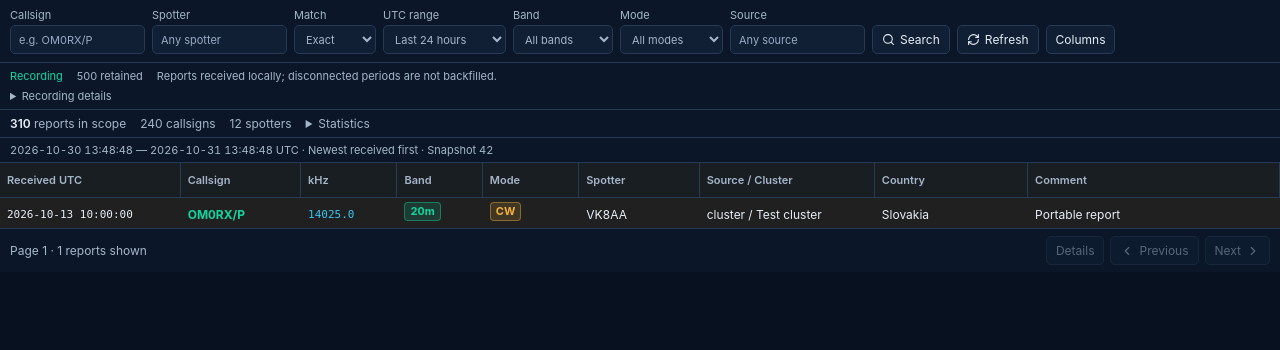
Spot History scope and paging › rejects invalid or reversed UTC ranges without making a new query
Expected: the text "310" is shown, x1=10 y1=116 x2=31 y2=131
Select "Custom UTC" in the dropdown labelled "UTC range" at (444, 40), box x1=383 y1=25 x2=506 y2=54
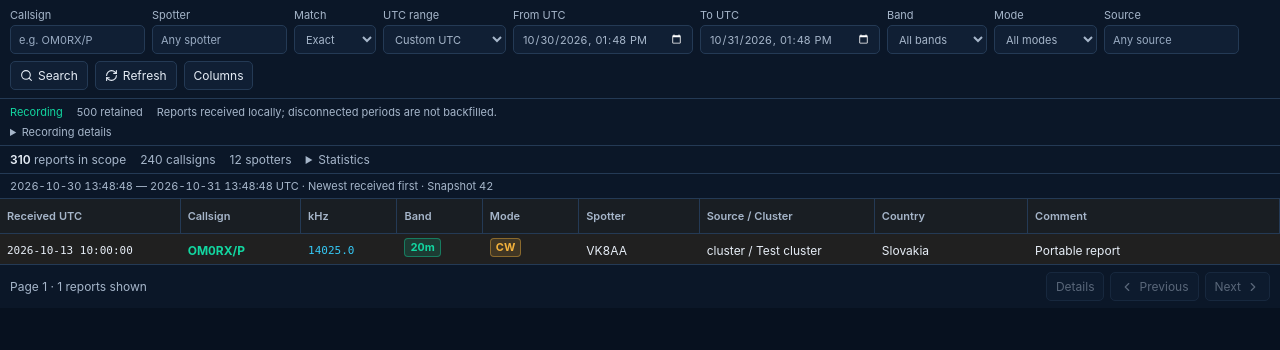
Replace the text in the field labelled "From UTC" with "2026-10-14T01:00" at (603, 40), box x1=513 y1=25 x2=693 y2=54
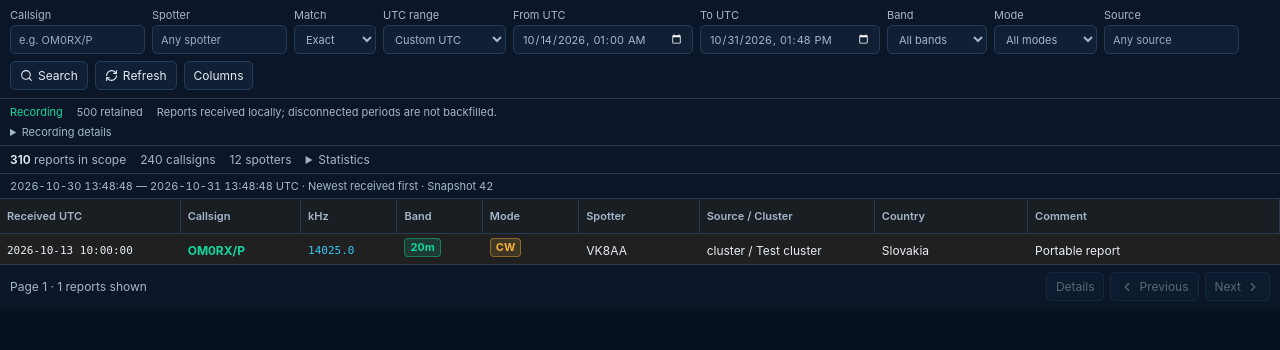
Replace the text in the field labelled "To UTC" with "2026-10-13T01:00" at (790, 40), box x1=700 y1=25 x2=880 y2=54
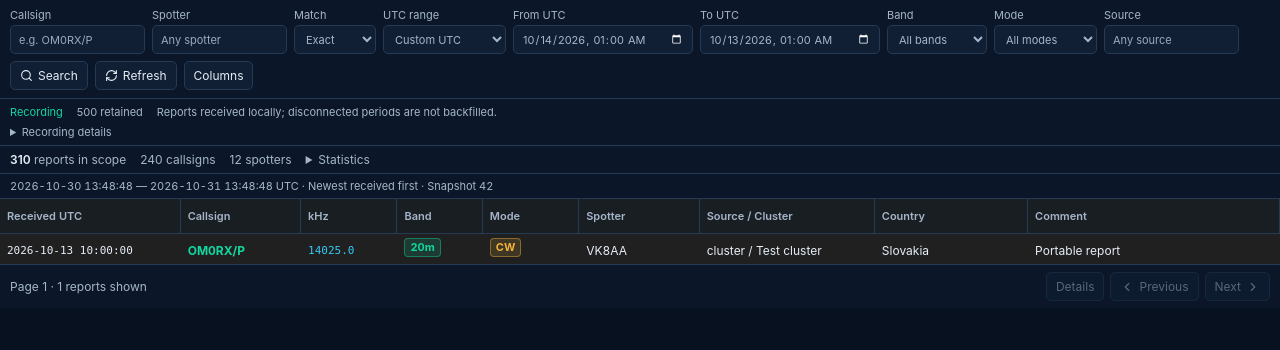
Click the button "Search" at (49, 76), box x1=10 y1=61 x2=88 y2=90
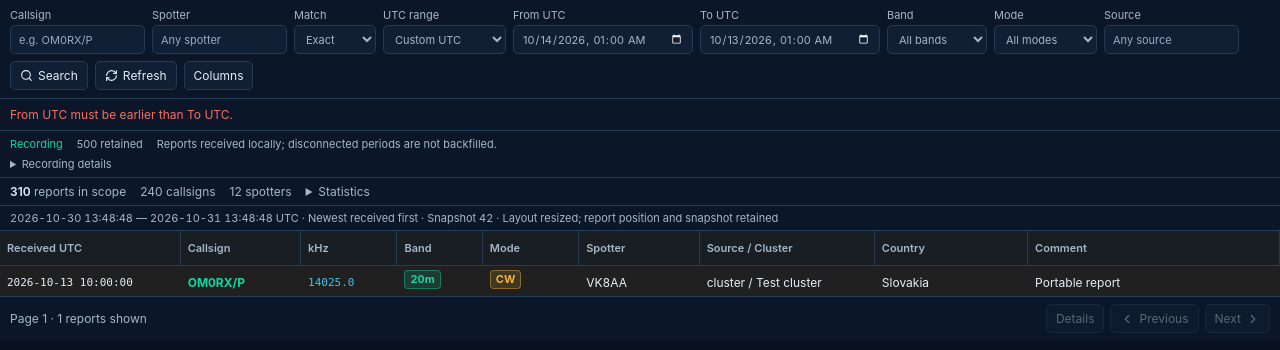
Expected: the message "From UTC must be earlier than To UTC." is shown, x1=0 y1=99 x2=1279 y2=131
